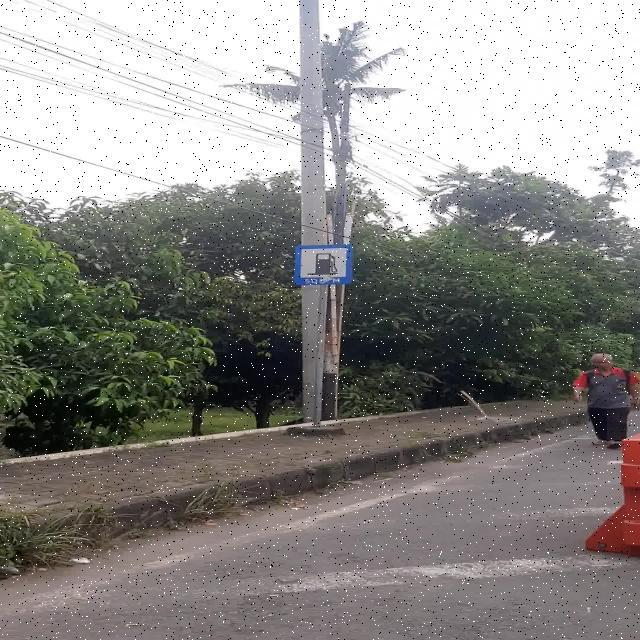Pom Bensin: (294, 245, 352, 285)
